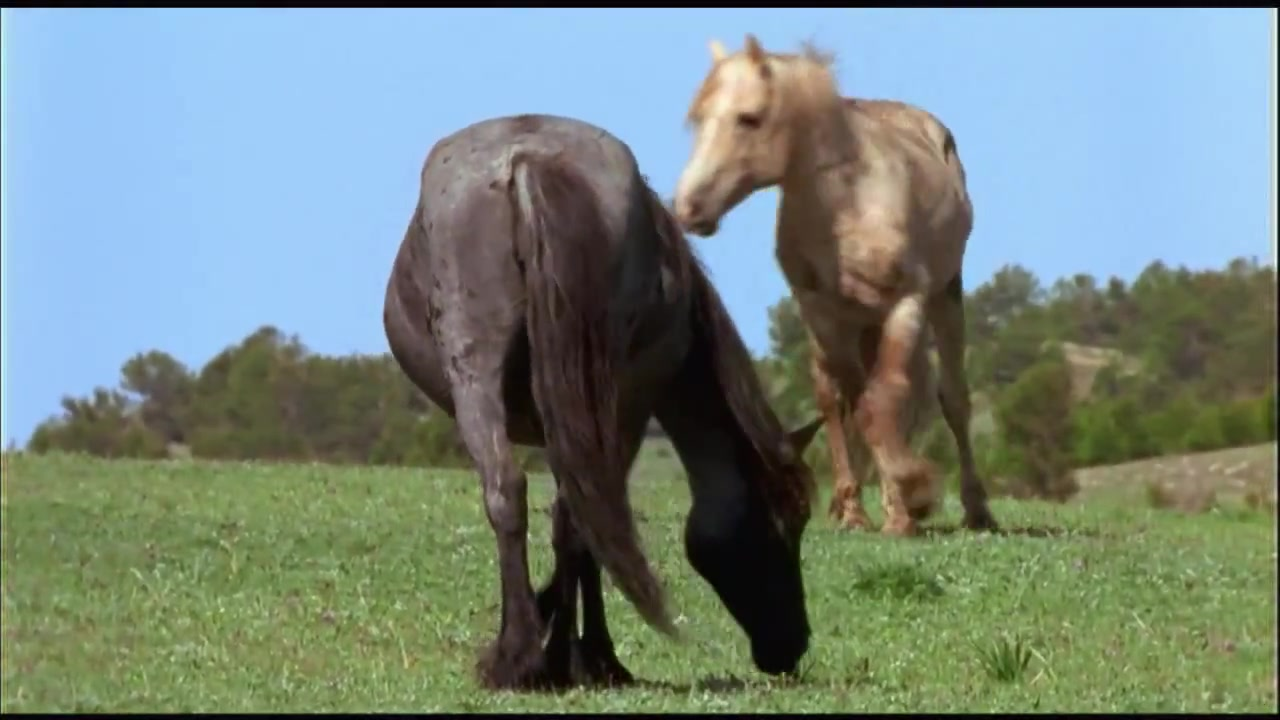horse: (383, 111, 831, 690)
